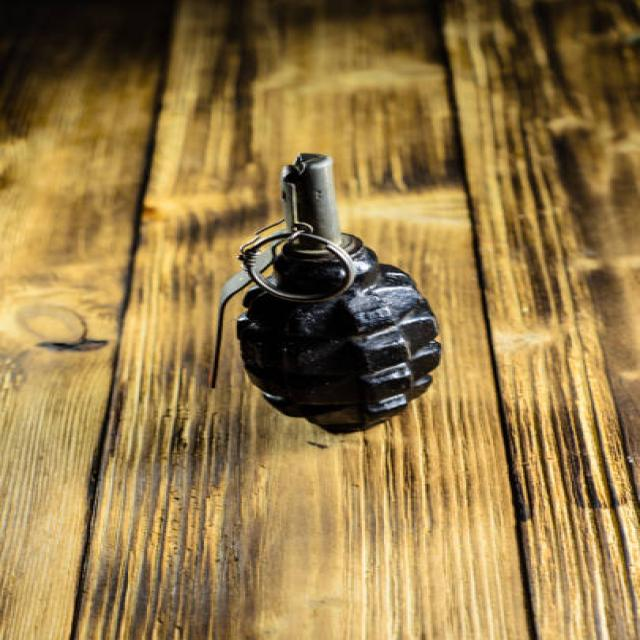grenade: (202, 148, 464, 438)
